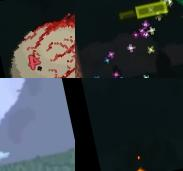eyeC: (0, 0, 75, 78)
